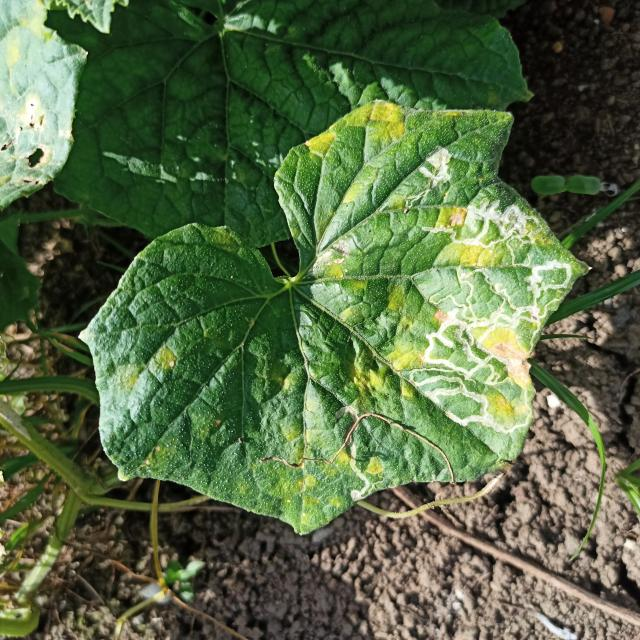disease_cucumber: (317, 212, 578, 433), (270, 384, 399, 528), (303, 100, 445, 211), (109, 344, 181, 394)
